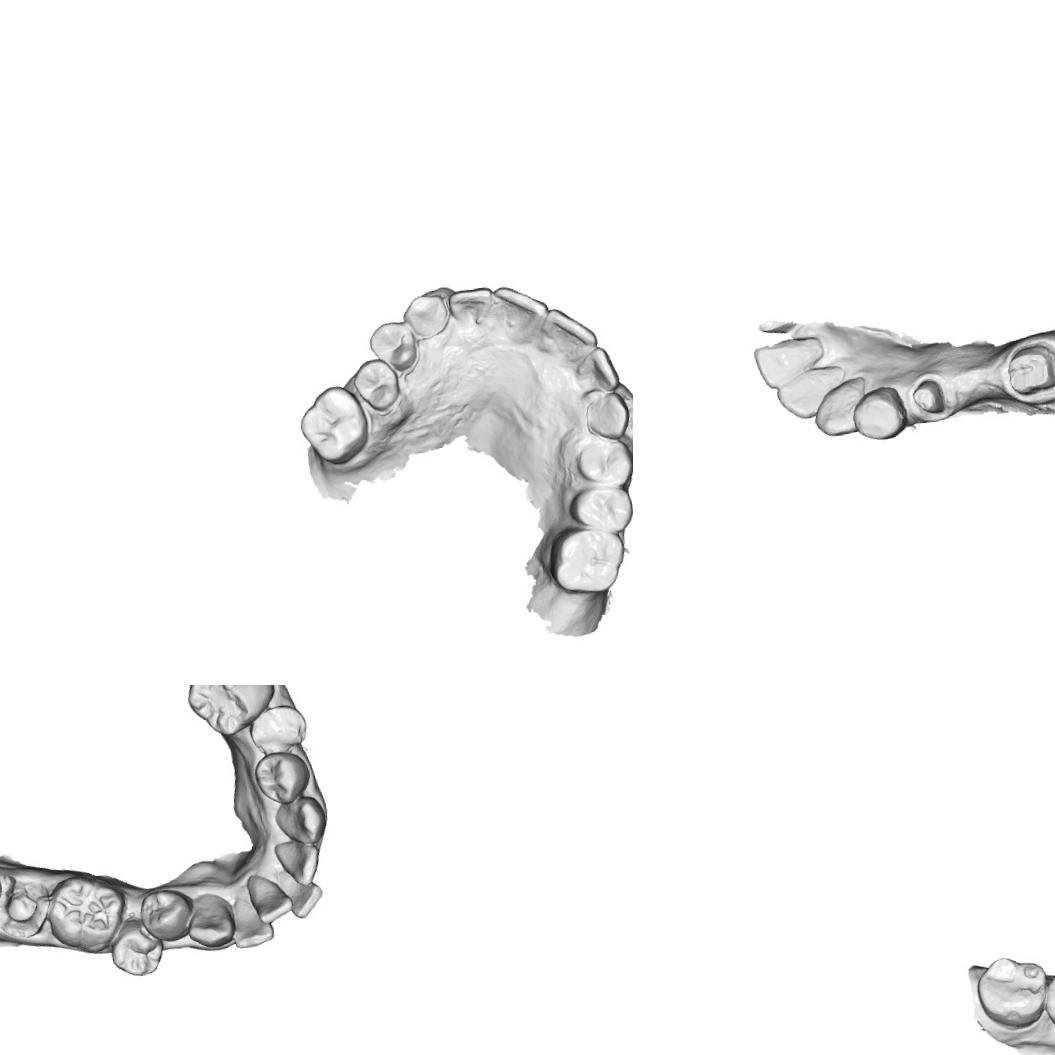canine: (810, 381, 870, 439), (183, 890, 238, 951), (272, 793, 330, 848), (581, 388, 633, 442), (400, 290, 452, 341)
crown: (1002, 339, 1055, 398), (908, 375, 948, 416)
incisor: (751, 334, 827, 390), (774, 364, 845, 422), (538, 304, 600, 368), (488, 280, 551, 340), (244, 870, 296, 926), (275, 864, 325, 921), (272, 836, 323, 890), (229, 893, 276, 951), (572, 344, 622, 394), (446, 286, 496, 328)
molar: (40, 870, 130, 958), (295, 382, 372, 468), (974, 952, 1052, 1033), (546, 522, 628, 598), (182, 685, 280, 739)
premolar: (106, 913, 166, 979), (565, 482, 633, 537), (246, 701, 311, 758), (251, 748, 313, 807), (850, 384, 910, 442), (136, 887, 196, 945), (349, 356, 403, 415), (366, 318, 420, 375), (574, 436, 633, 487)
